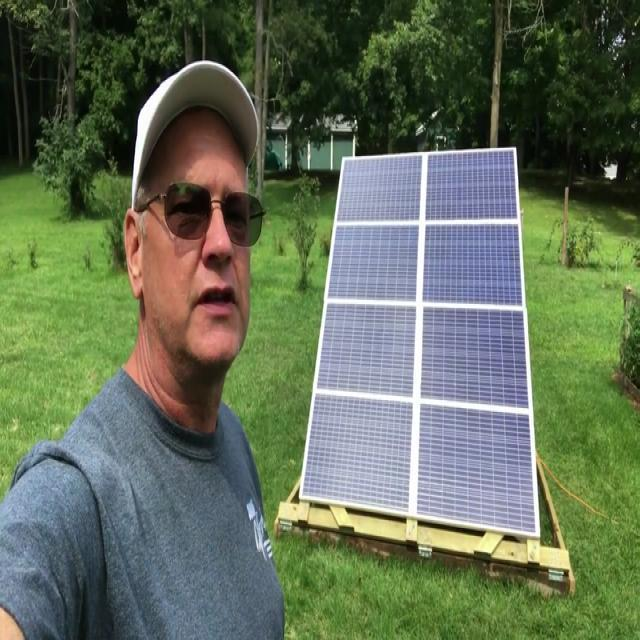Normal Solar Panel: (300, 149, 542, 536)
